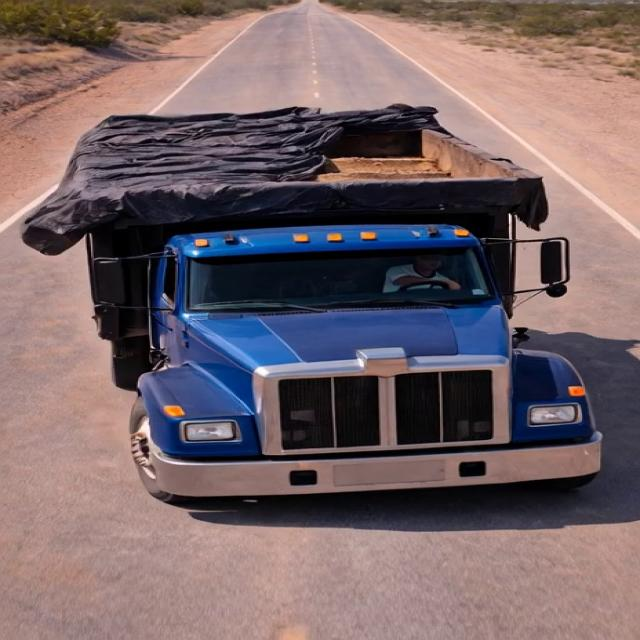trailer: (16, 102, 571, 237)
truck: (12, 71, 607, 503)
